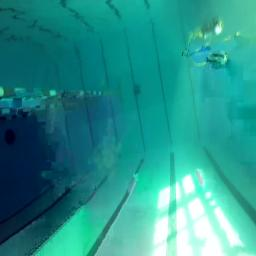Side: (205, 52, 230, 70)
